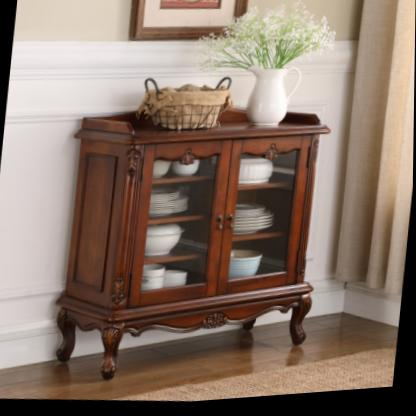Cupboard: (55, 113, 332, 384)
Curtains: (336, 0, 416, 303)
Wooden floor: (0, 318, 399, 402)
